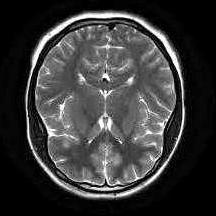Normal_Brain: (1, 1, 210, 216)
